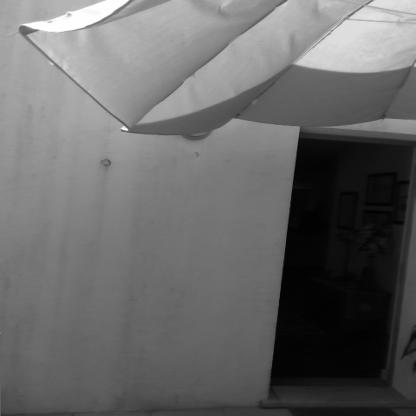open: (262, 122, 416, 416)
